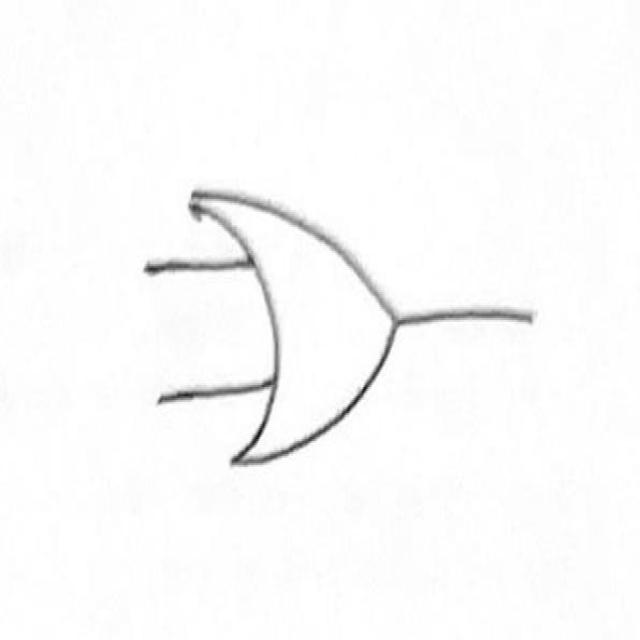OR: (180, 168, 430, 520)
